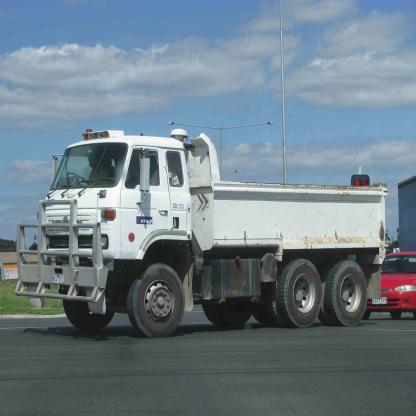dump_truck: (11, 121, 390, 328)
